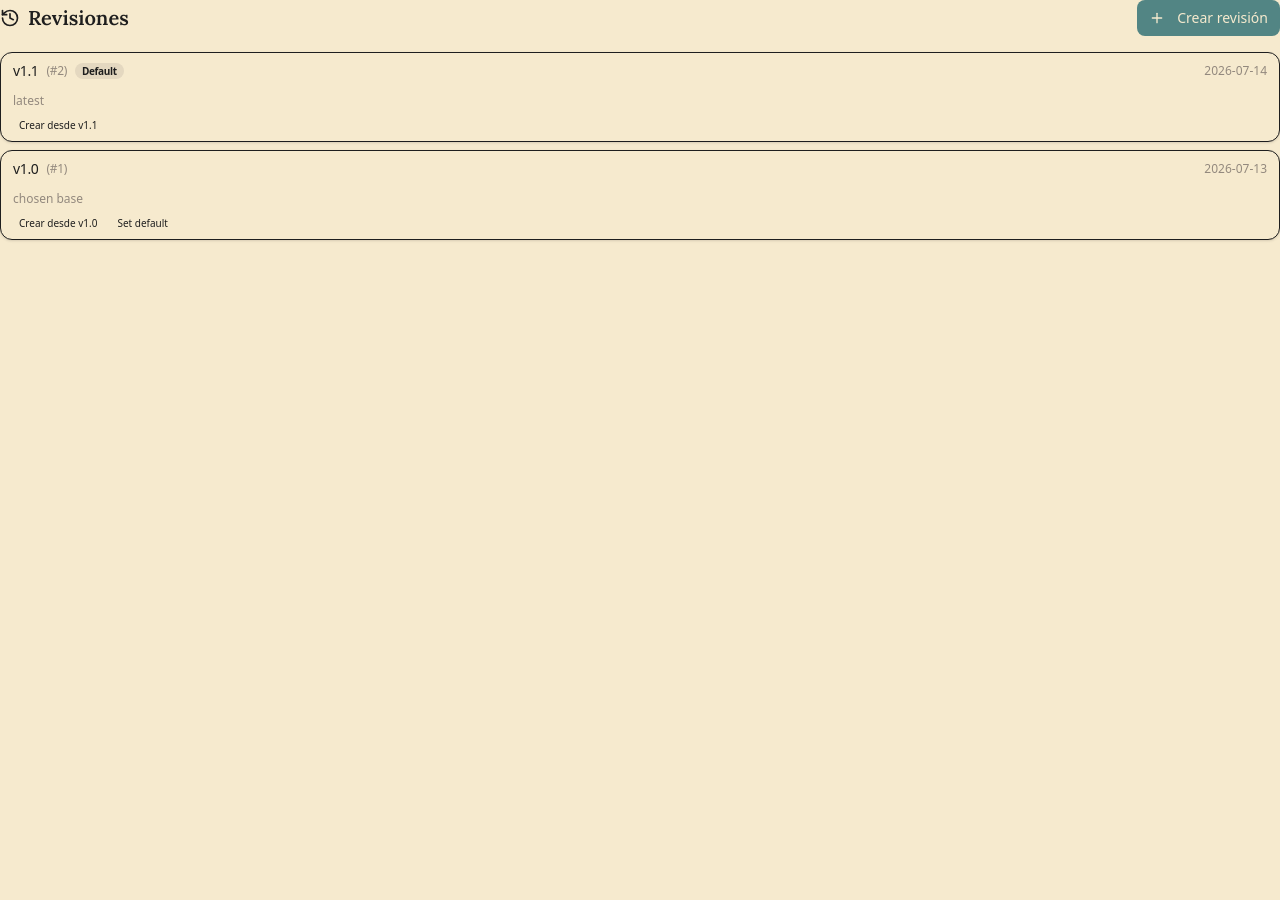
PromptRevisionEditor create from base › creates a draft from the selected revision, not always latest
The width and height of the screenshot is (1280, 900).
What coordinates should you click on to do the following:
click the button "Crear desde v1.0"
I would click on:
 (58, 223)
Its box is [13,211,103,235].
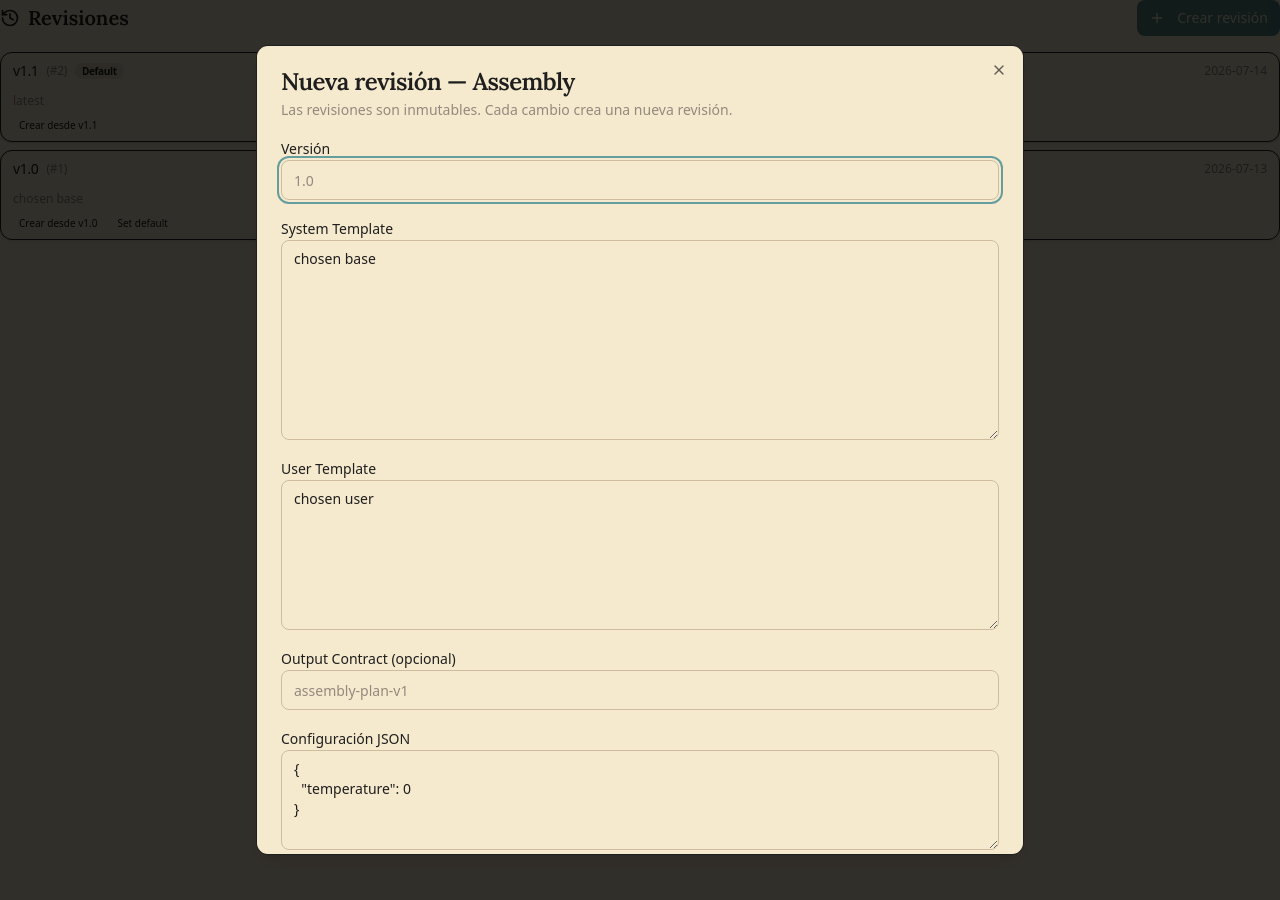
Expected: the text box labelled "System Template" holds "chosen base", [281,240,999,440]
Expected: the text box labelled "User Template" holds "chosen user", [281,480,999,630]
